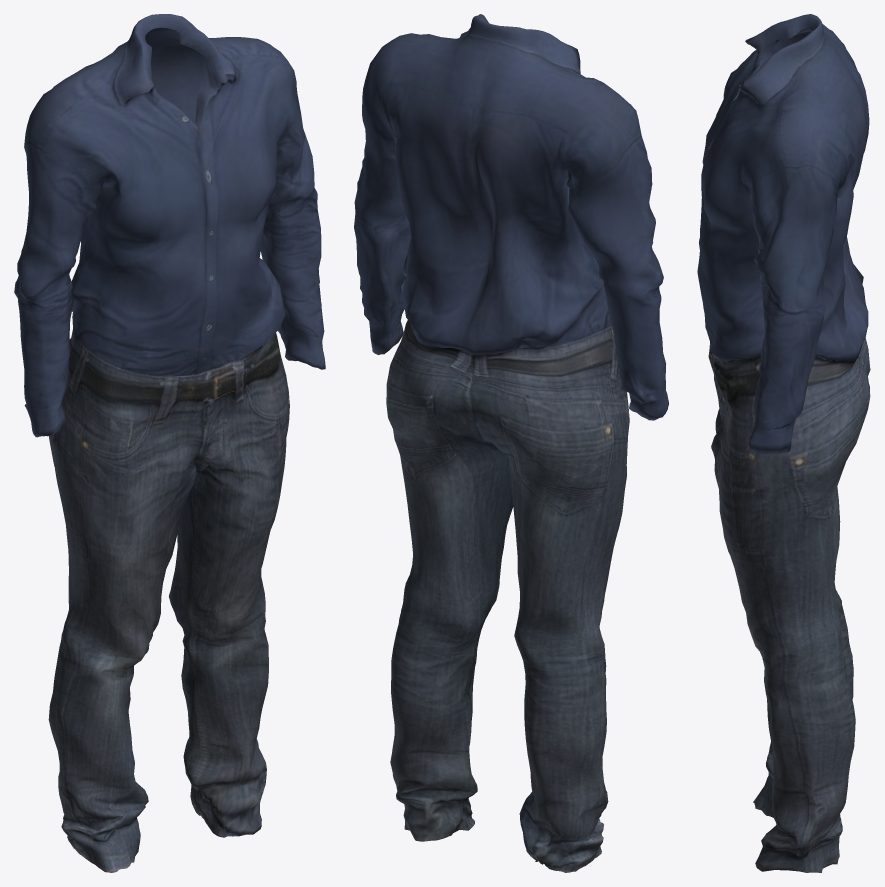
File: bottom_jeans_belted.gltf
3 views of the same model, side by side, from view 1: azimuth 30°, elevation 25°; view 2: azimuth 150°, elevation 25°; view 3: azimuth 270°, elevation 25° (orthographic). The views are drawn at different scales.
Visible parts, largest first — view 1: bottom_jeans_belted; view 2: bottom_jeans_belted; view 3: bottom_jeans_belted.
Part boxes in pixels (bbox=[...]): bottom_jeans_belted: bbox=[14, 14, 325, 872]; bottom_jeans_belted: bbox=[354, 14, 668, 872]; bottom_jeans_belted: bbox=[697, 14, 870, 872].
Bounding box in the file's own units: 0.5149 × 1.35 × 0.2602.
1 material, 1 textured.
